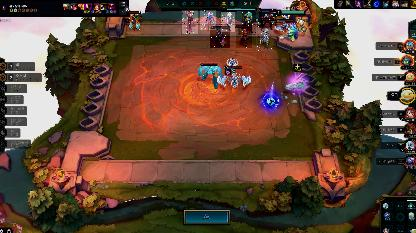1_graves: (242, 11, 256, 33)
1_lillia: (182, 10, 198, 34)
1_lux: (221, 12, 235, 32)
1_rakan: (236, 26, 252, 48)
1_sylas: (259, 8, 277, 28)
1_taliyah: (126, 10, 142, 32)
1_varus: (210, 26, 230, 48)
1_vladimir: (200, 10, 216, 30)
1_zac: (200, 62, 220, 88)
2_nidalee: (256, 17, 274, 51)
2_skarner: (223, 64, 247, 90)
